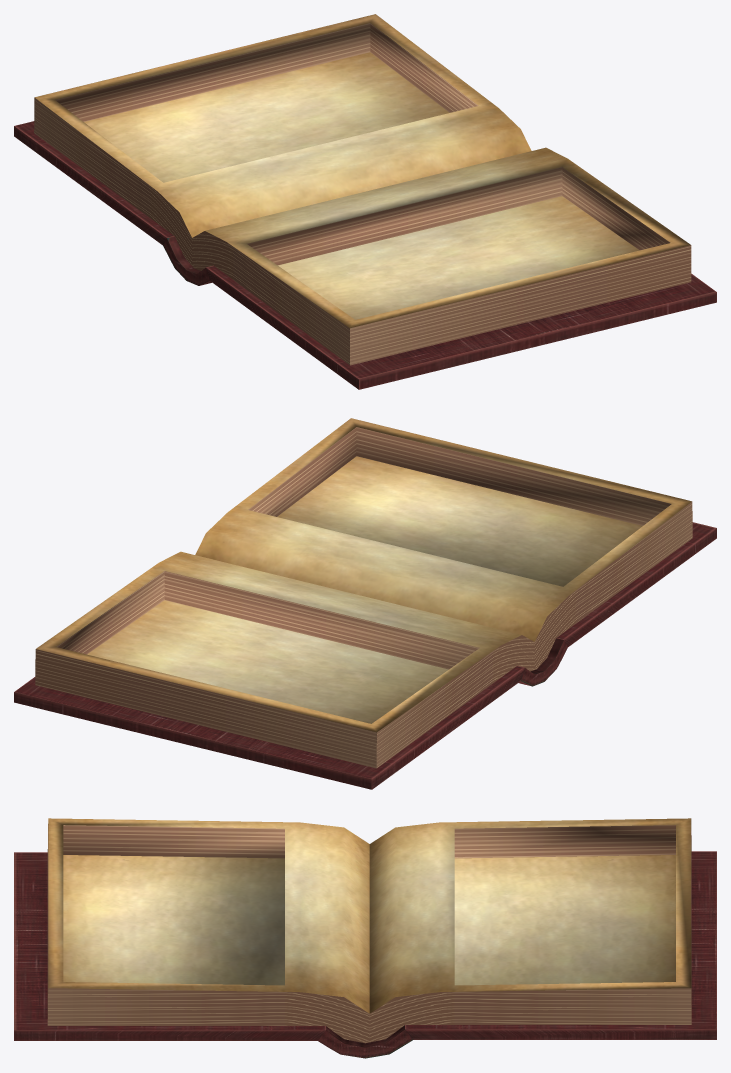
Rendered from book_open_cutout.glb.
The picture shows the model from 3 angles, top to bottom: view 1: azimuth 30°, elevation 25°; view 2: azimuth 150°, elevation 25°; view 3: azimuth 270°, elevation 25°; orthographic projection.
Visible parts, largest first — view 1: SM_Book_open_cutout; view 2: SM_Book_open_cutout; view 3: SM_Book_open_cutout.
Part boxes in pixels (bbox=[...]): SM_Book_open_cutout: bbox=[14, 14, 716, 389]; SM_Book_open_cutout: bbox=[14, 418, 716, 789]; SM_Book_open_cutout: bbox=[14, 818, 716, 1058].
Bounding box in the file's own units: 0.6563 × 0.1133 × 1.1.
Materials: 1 (1 with a texture image).
